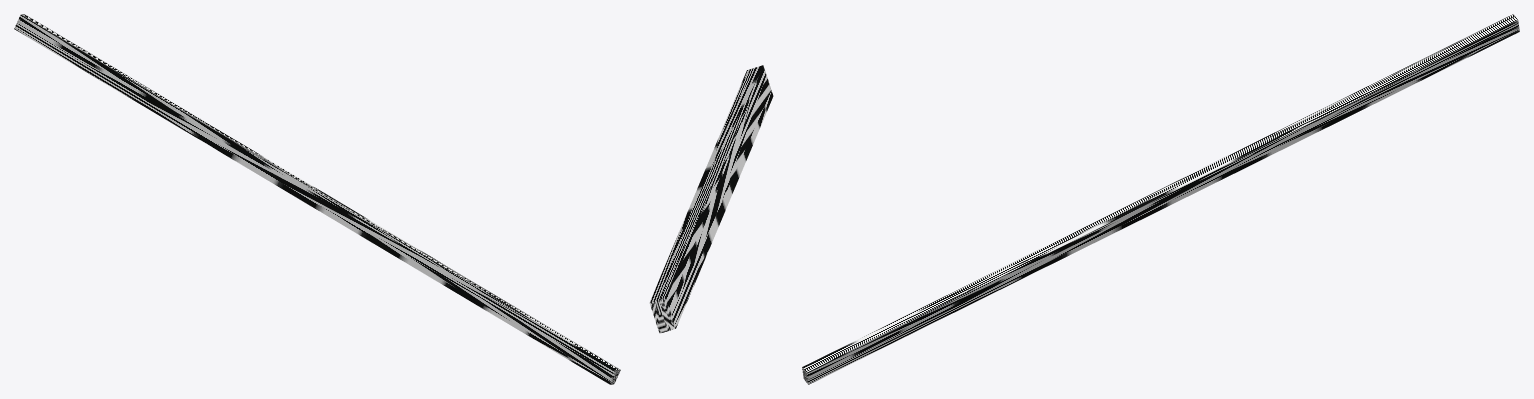
3 renders of one model, left to right at view 1: azimuth 30°, elevation 25°; view 2: azimuth 150°, elevation 25°; view 3: azimuth 270°, elevation 25°, orthographic. The views are drawn at different scales.
Visible parts, largest first — view 1: Cube.032; view 2: Cube.032; view 3: Cube.032.
Boxes of the visible parts, left/top/right/bottom form: Cube.032: left=14, top=14, right=620, bottom=384; Cube.032: left=649, top=65, right=773, bottom=333; Cube.032: left=802, top=14, right=1519, bottom=384.
Bounding box in the file's own units: 11.31 × 7.66 × 22.31.
Materials: 1 (1 with a texture image).
